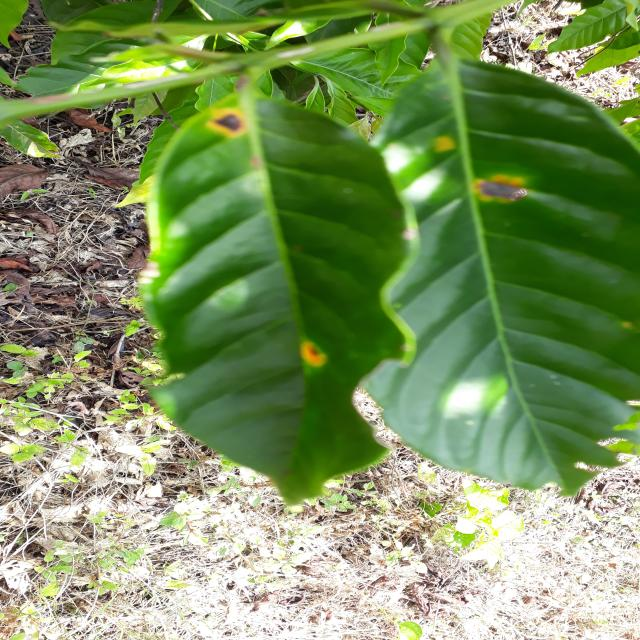Enfermedad-Roya: (139, 80, 416, 505)
